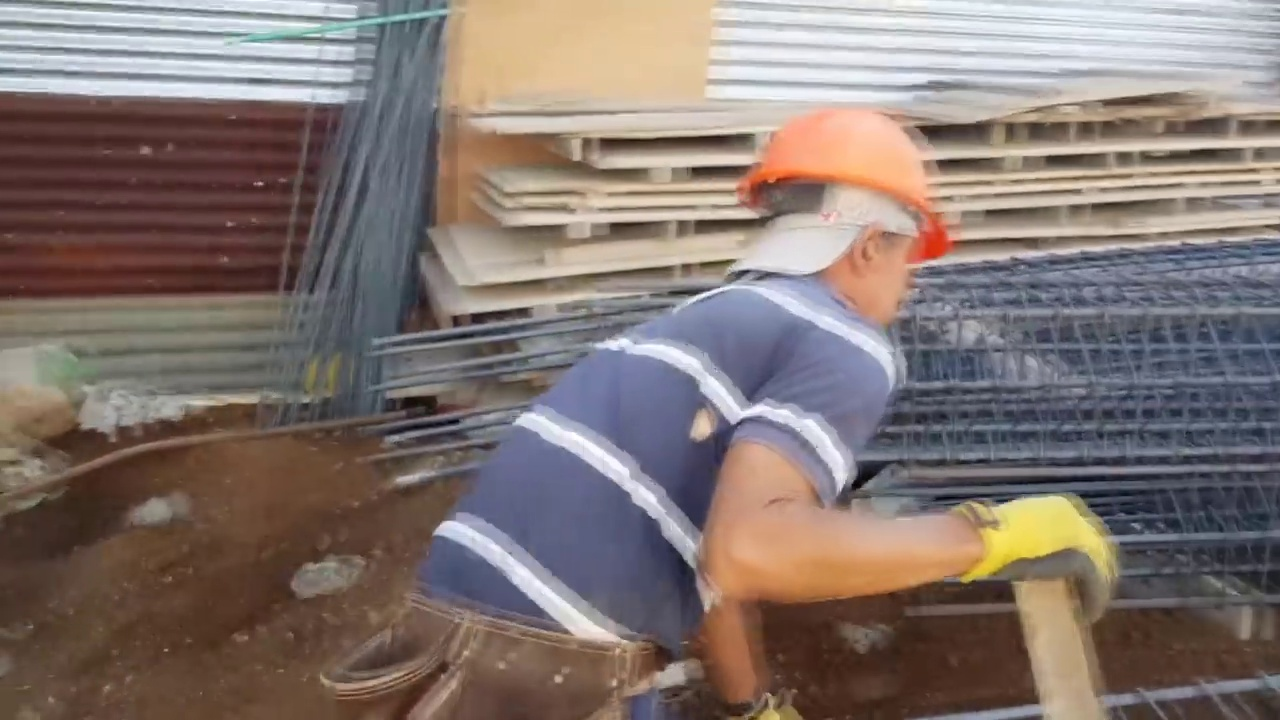helmet: (736, 102, 949, 261)
helmet-on: (738, 99, 946, 333)
person: (313, 99, 1119, 712)
